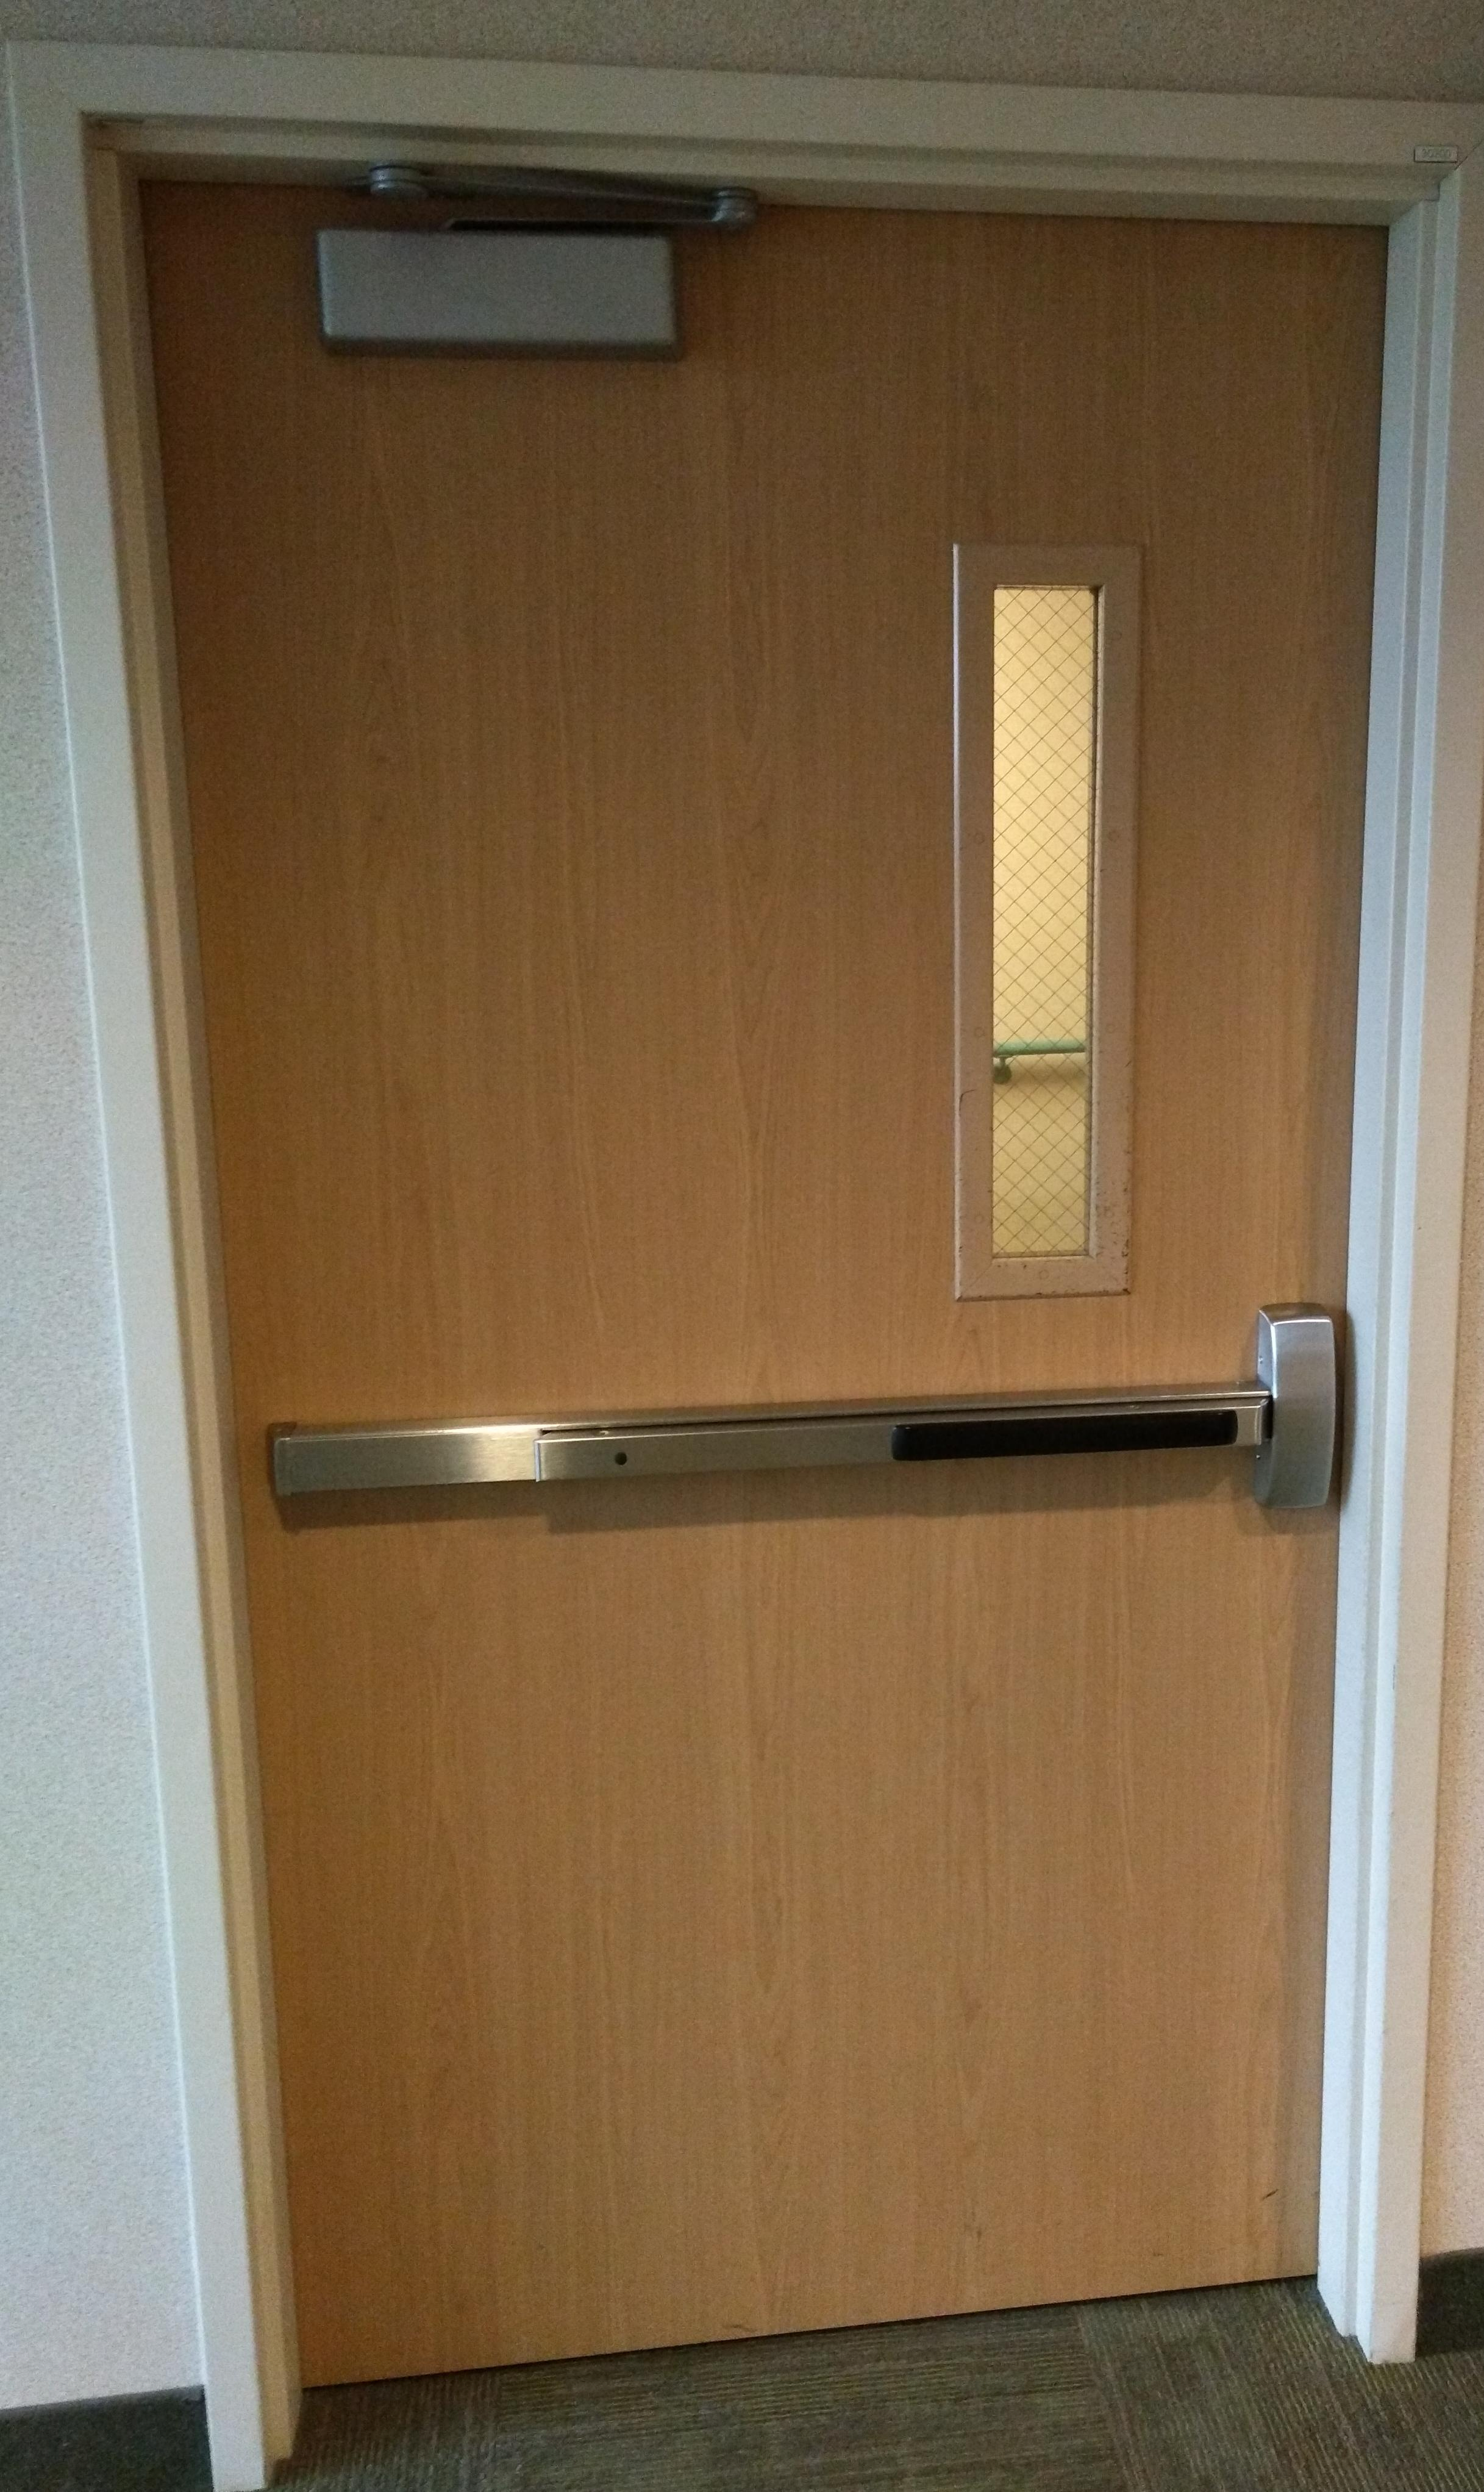door: (11, 41, 1470, 2485)
